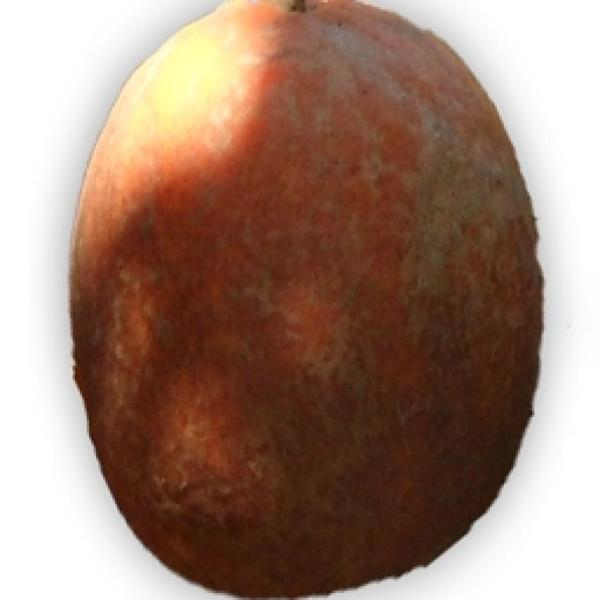Canker: (53, 0, 570, 599)
